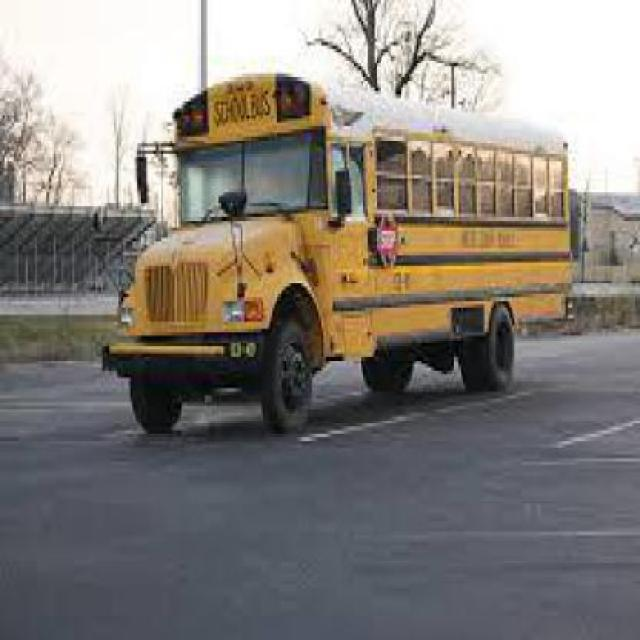bus: (105, 69, 572, 438)
